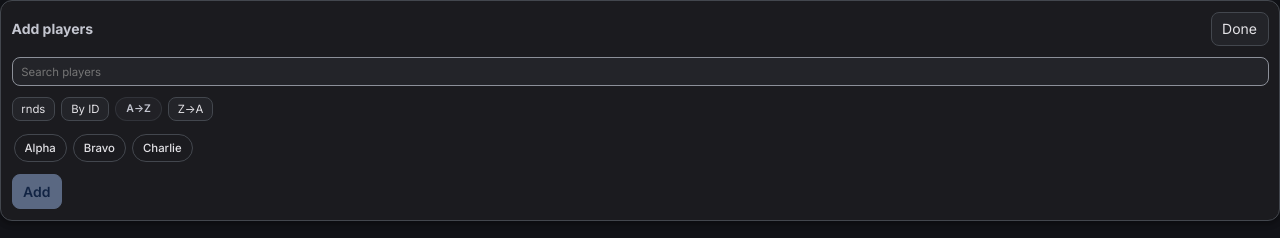
Scenario: AddPlayersDrawer › filters players by search and sorts by name ascending
Type "br" into the search field at (640, 72), box [12, 57, 1268, 86]
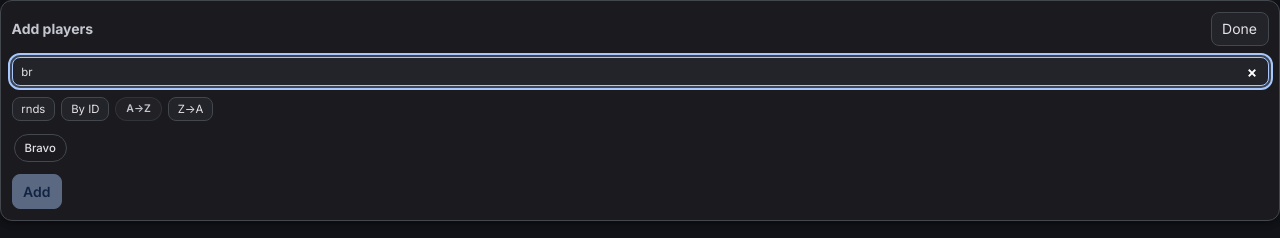
Expected: the button "Bravo" is shown, [14, 134, 67, 162]
Now the button "Alpha" is gone
